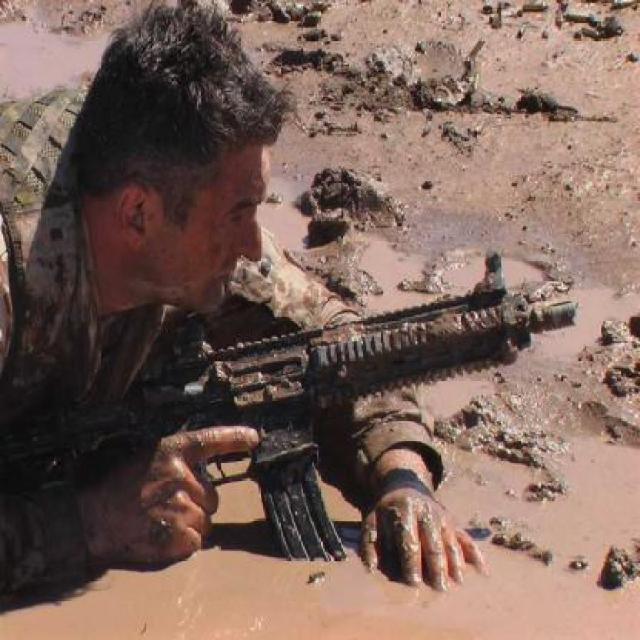weapon: (0, 245, 580, 568)
